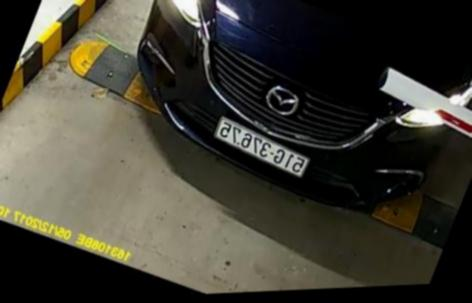License_Plate: (210, 116, 313, 185)
